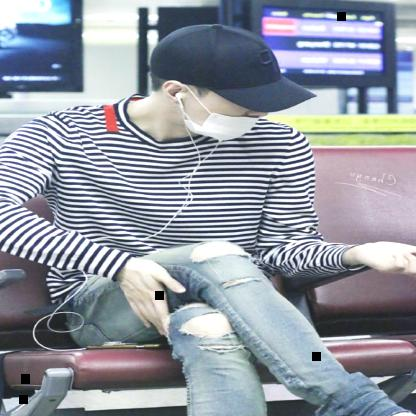mask: (140, 24, 318, 144)
